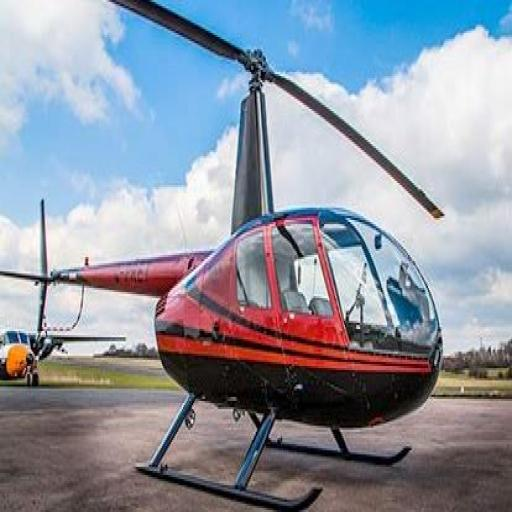helicopter: (21, 14, 466, 495)
